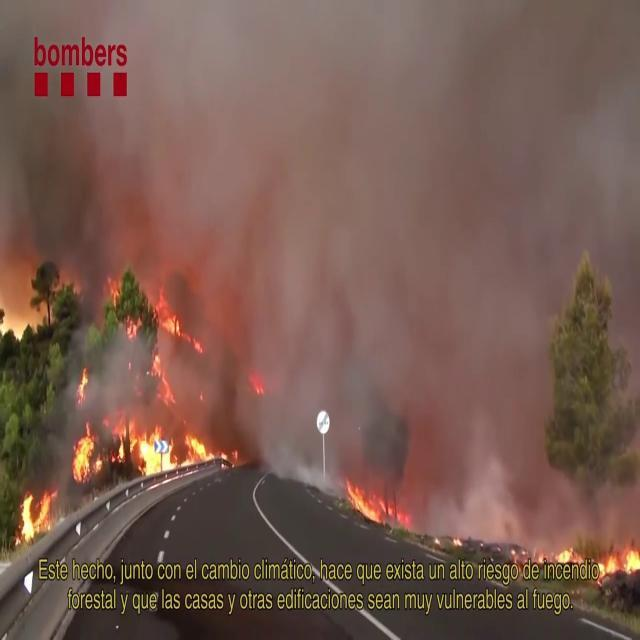Fire: (70, 415, 239, 477), (344, 470, 394, 530), (18, 480, 58, 546), (150, 290, 187, 350), (595, 535, 640, 583), (146, 344, 174, 410)
Smoke: (0, 1, 640, 511)
